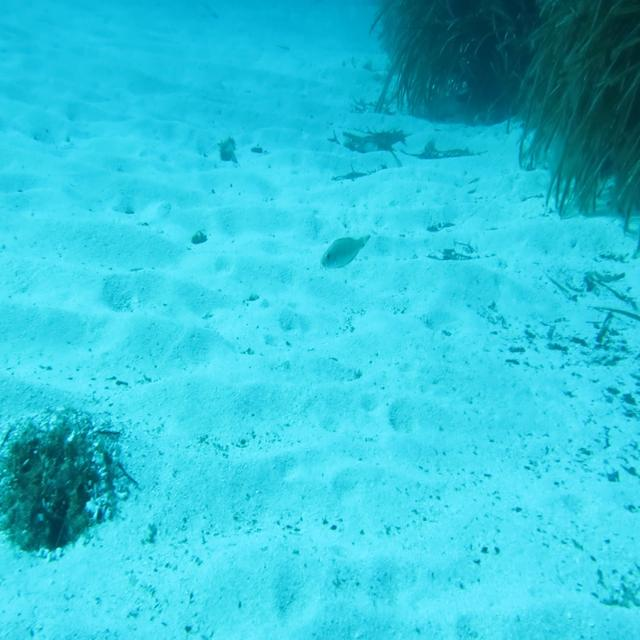AM: (320, 235, 371, 269)
nest: (0, 408, 137, 560)
vegetation: (407, 0, 640, 111), (319, 262, 326, 271)
